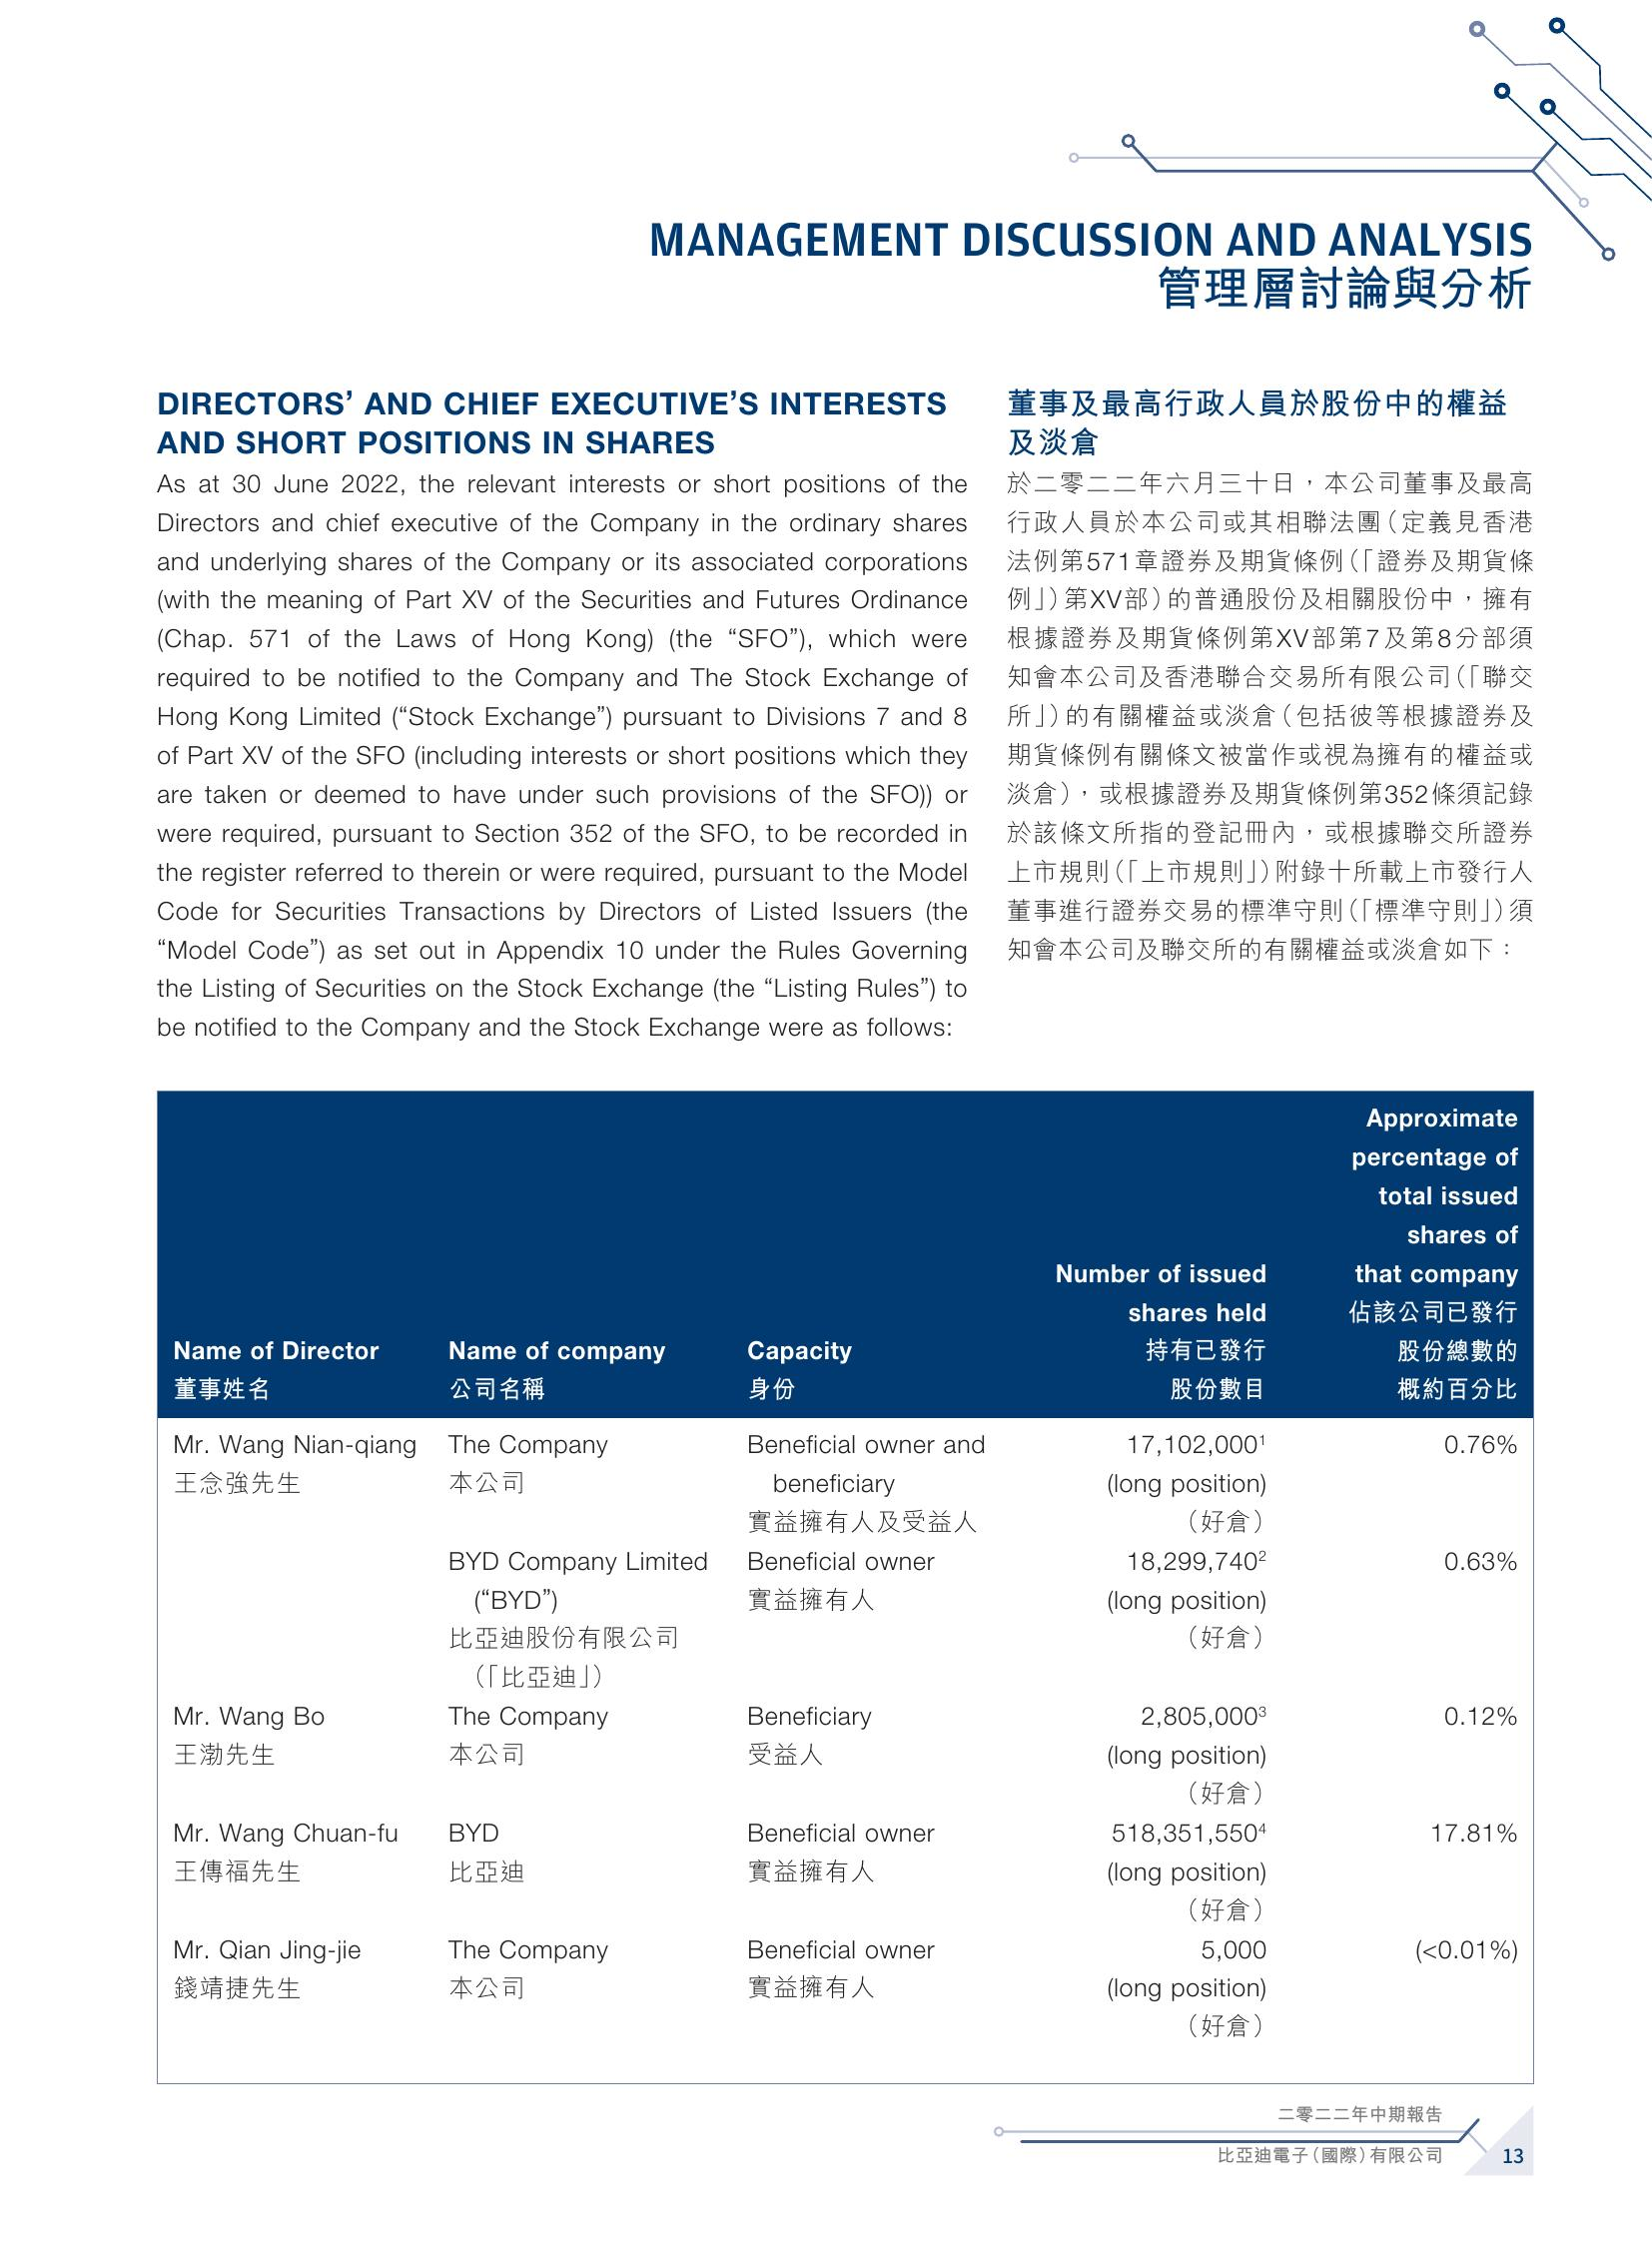Footer: (0, 2089, 1652, 2242)
Header: (0, 0, 1652, 205)
Table: (91, 1074, 1565, 2049)
